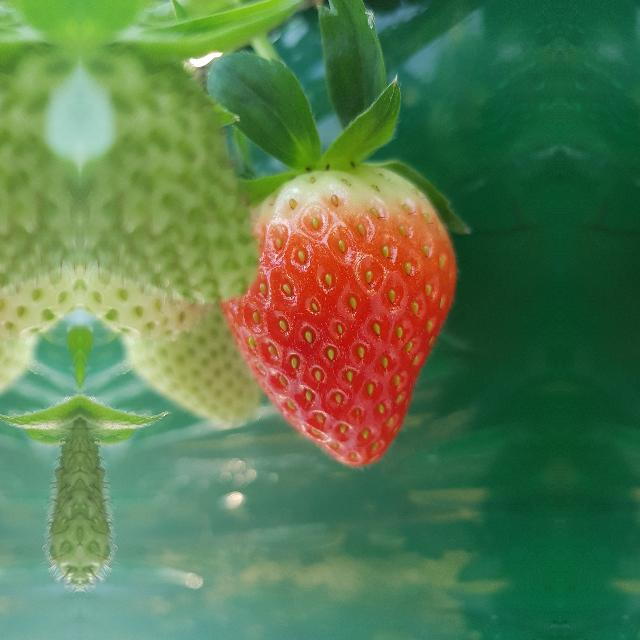Health_75: (218, 164, 458, 468)
